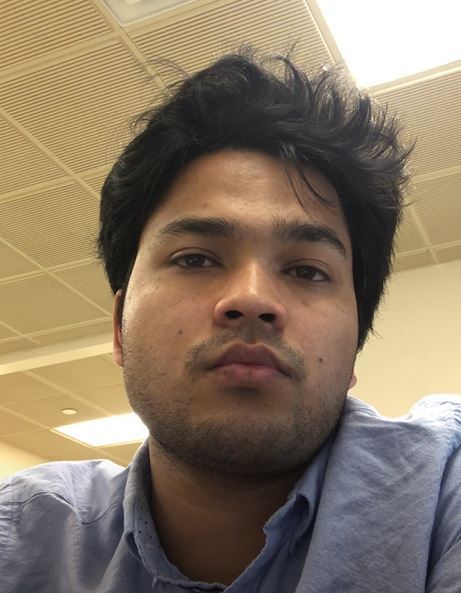Not Sleeping: (147, 233, 353, 304)
